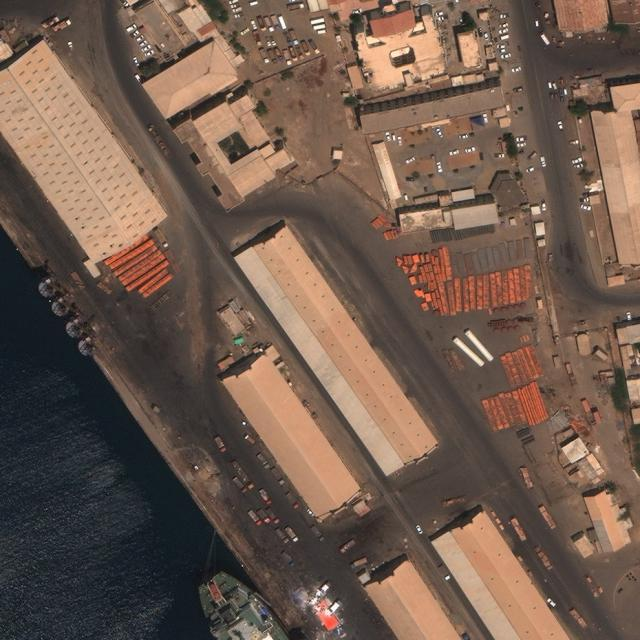Cargo: (200, 571, 290, 640)
